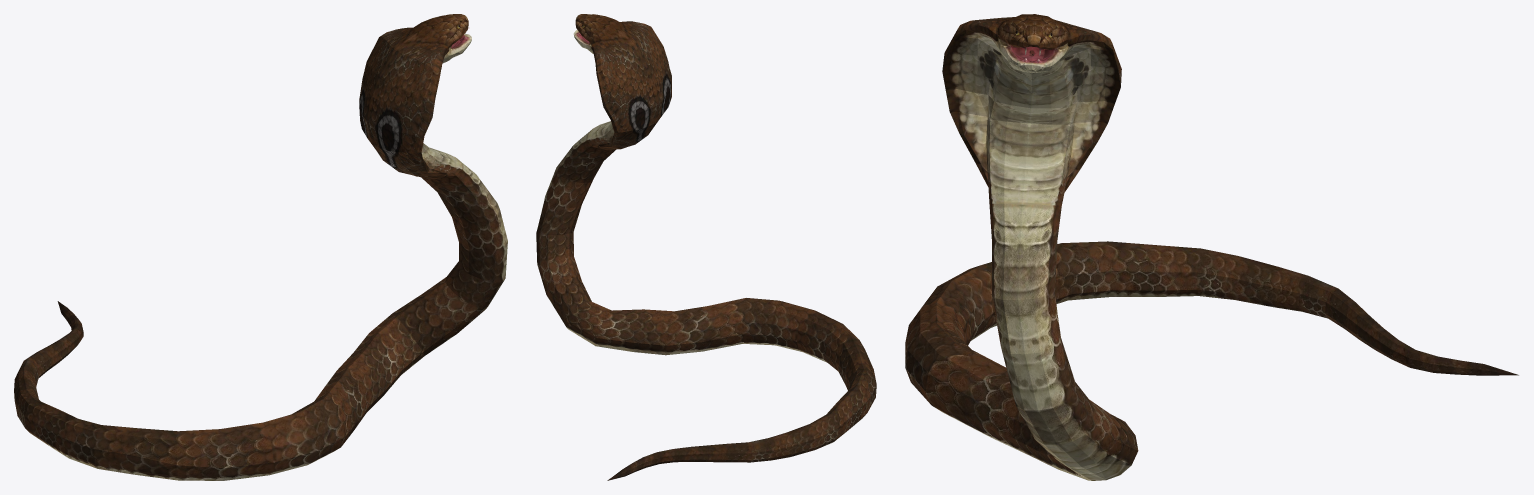
Rendered from snake-a.glb.
The picture shows the model from 3 angles, left to right: view 1: azimuth 30°, elevation 25°; view 2: azimuth 150°, elevation 25°; view 3: azimuth 270°, elevation 25°; orthographic projection. The views are drawn at different scales.
Size of the model in its own units: 59.98 by 52.15 by 58.74.
1 material, 1 textured.
